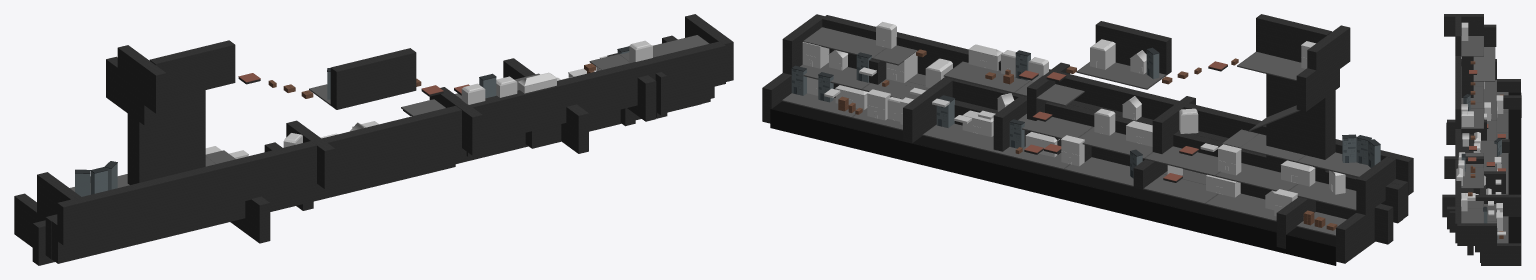
The model's file is FinalBuild.fbx.
3 views of the same model, side by side, from view 1: azimuth 30°, elevation 25°; view 2: azimuth 150°, elevation 25°; view 3: azimuth 270°, elevation 25° (orthographic). The views are drawn at different scales.
Parts seen in each view (by area): view 1: brickwall_68, brickwall_17, brickwall_67, brickwall_66, brickwall_52, brickwall_60, brickwall_13, brickwall_46, brickwall_56, brickwall_15, brickwall_54, brickwall_14 (+34 smaller); view 2: brickwall_59, brickwall_56, brickwall_65, brickwall_70, brickwall_12, brickwall_53, brickwall_1, road_4, road_7, road_5, road_6, road_8 (+84 smaller); view 3: brickwall_11, brickwall, brickwall_64, sidewalk_18, brickwall_1, brickwall_2, sidewalk_17, brickwall_4, sidewalk_8, brickwall_3, sidewalk_2, brickwall_70 (+64 smaller).
Part boxes in pixels (x1,y1,x2,y2): brickwall_68: [57, 187, 129, 245]; brickwall_17: [389, 106, 461, 164]; brickwall_67: [124, 170, 195, 229]; brickwall_66: [190, 154, 262, 212]; brickwall_52: [330, 56, 402, 109]; brickwall_60: [133, 124, 205, 178]; brickwall_13: [654, 41, 725, 97]; brickwall_46: [323, 122, 394, 178]; brickwall_56: [149, 43, 221, 99]; brickwall_15: [526, 73, 593, 132]; brickwall_54: [256, 138, 328, 196]; brickwall_14: [587, 57, 659, 115]; brickwall_59: [1266, 100, 1330, 147]; brickwall_56: [1267, 17, 1331, 62]; brickwall_65: [1296, 53, 1339, 111]; brickwall_70: [1336, 208, 1375, 263]; brickwall_12: [1356, 157, 1395, 214]; brickwall_53: [1095, 21, 1159, 65]; brickwall_1: [903, 83, 946, 143]; road_4: [911, 143, 982, 179]; road_7: [1123, 195, 1194, 231]; road_5: [982, 160, 1052, 196]; road_6: [1053, 177, 1123, 213]; road_8: [1194, 212, 1264, 248]; brickwall_11: [1457, 223, 1496, 245]; brickwall: [1481, 243, 1520, 265]; brickwall_64: [1444, 14, 1483, 36]; sidewalk_18: [1473, 47, 1495, 81]; brickwall_1: [1481, 194, 1520, 216]; brickwall_2: [1473, 171, 1505, 193]; sidewalk_17: [1461, 36, 1483, 56]; brickwall_4: [1447, 119, 1486, 142]; sidewalk_8: [1461, 167, 1483, 188]; brickwall_3: [1444, 156, 1483, 178]; sidewalk_2: [1461, 208, 1483, 223]; brickwall_70: [1497, 79, 1520, 92].
Bounding box in the file's own units: 1042190 × 298922 × 203953.
